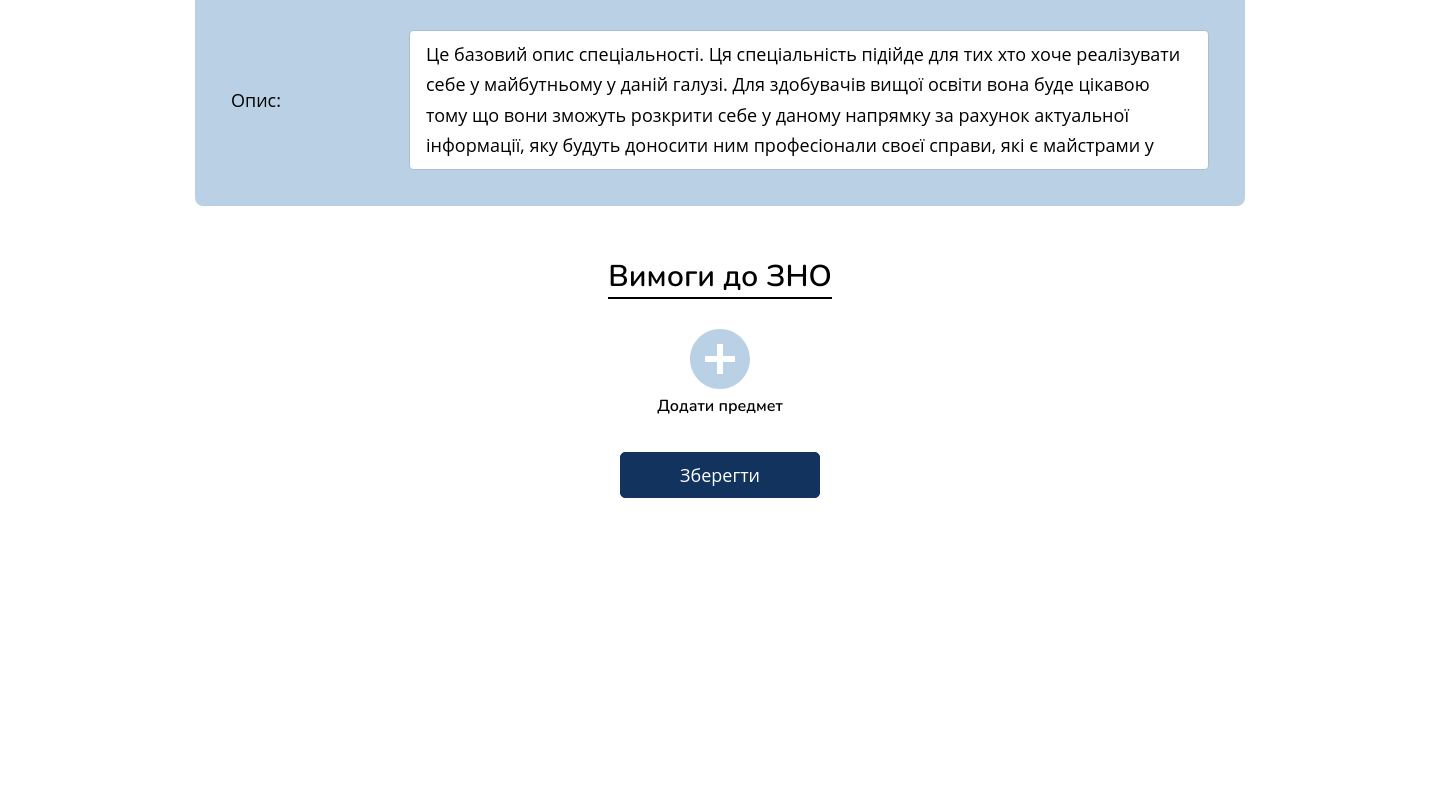
Test: EditSpecialty › Exam Requirements › possibility to open a window of a choice of subjects
This screenshot has width=1440, height=810.
(page scrolled)
Click the text "Додати предмет": x=720, y=406 [657,395,783,417]
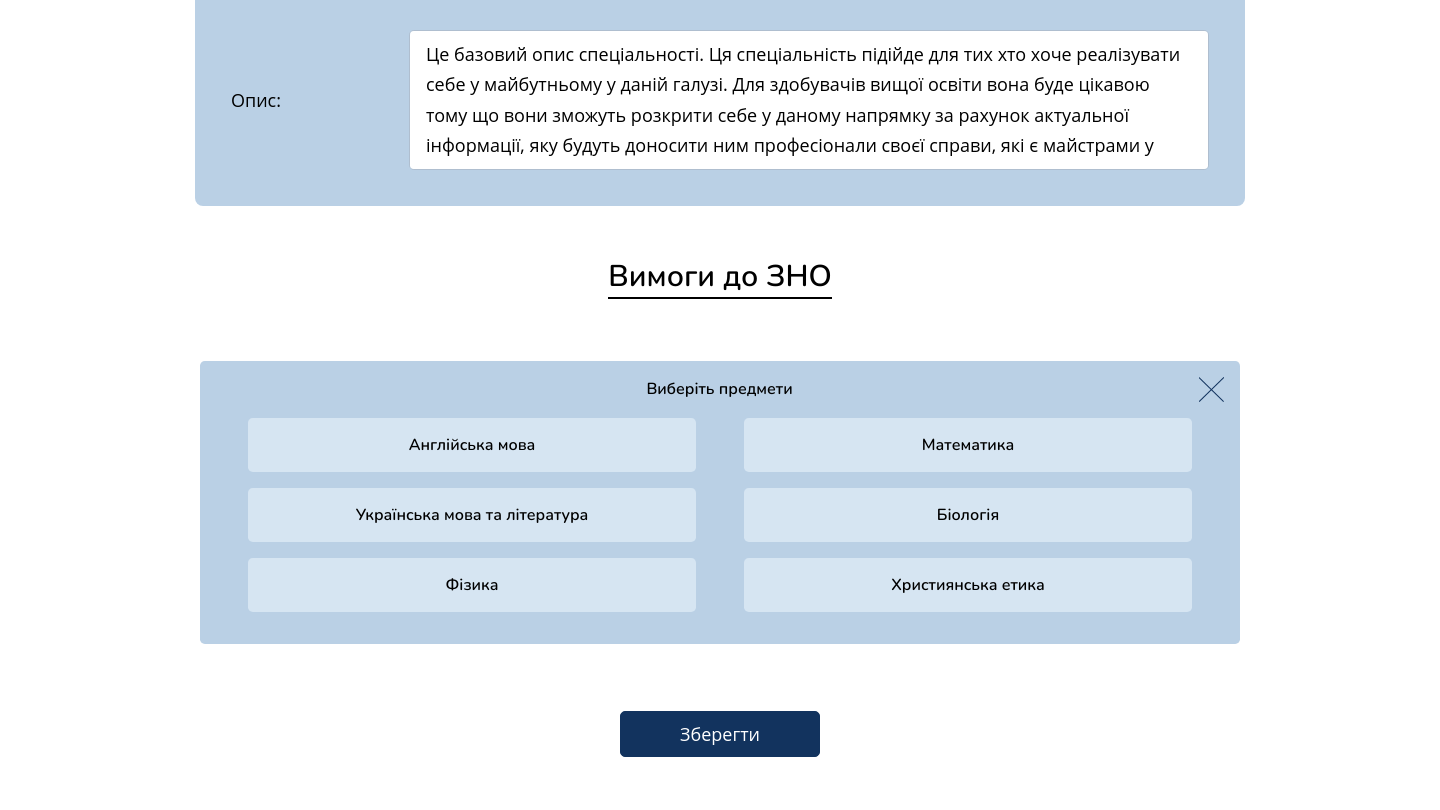
expect the text "Виберіть предмети" is shown: met, box [646,378,793,400]
